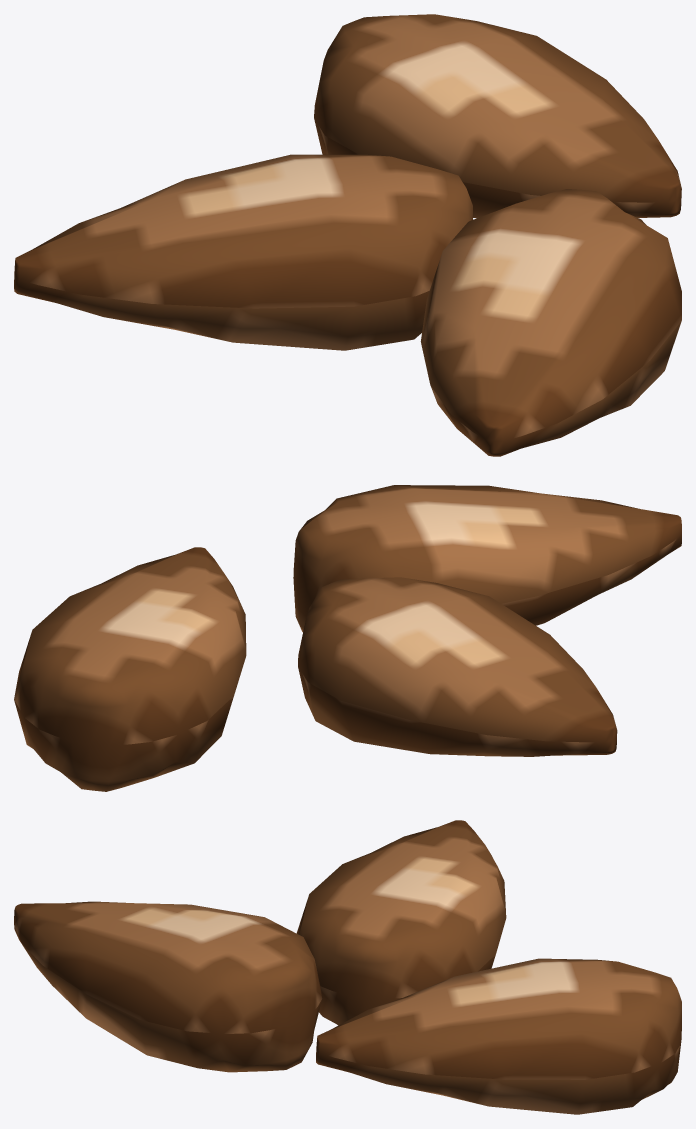
Rendered from (OLD)Elderberry Sedd.fbx.
3 renders of one model, top to bottom at view 1: azimuth 30°, elevation 25°; view 2: azimuth 150°, elevation 25°; view 3: azimuth 270°, elevation 25°, orthographic. The views are drawn at different scales.
Parts seen in each view (by area): view 1: Elderberry_Seed_Drop2; view 2: Elderberry_Seed_Drop2; view 3: Elderberry_Seed_Drop2.
Part boxes in pixels (x1,y1,x2,y2): Elderberry_Seed_Drop2: (14,14,681,456); Elderberry_Seed_Drop2: (14,485,681,791); Elderberry_Seed_Drop2: (14,820,681,1114).
Size of the model in its own units: 10 by 2.18 by 11.7.
Materials: 1 (1 with a texture image).
